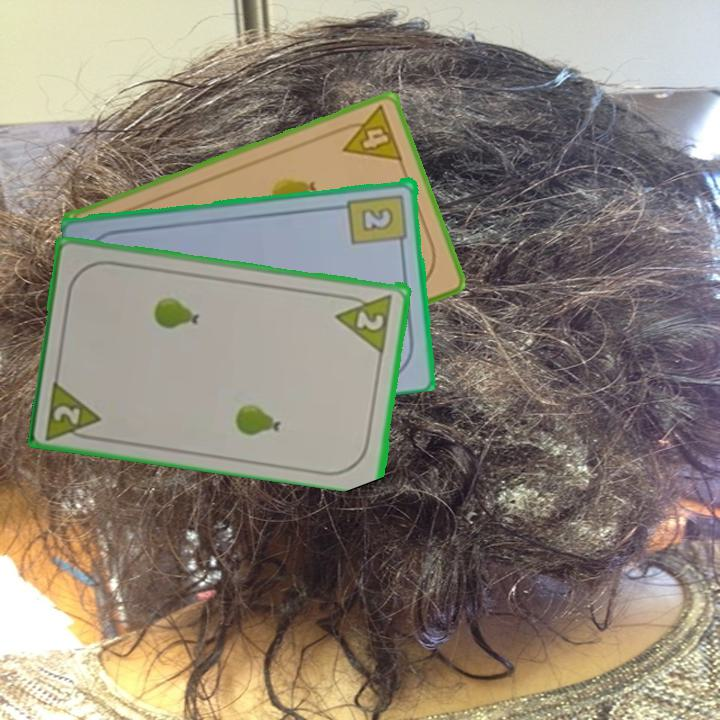2b: (345, 190, 411, 252)
2p: (42, 375, 105, 444), (333, 290, 396, 354)
4p: (332, 102, 406, 165)
